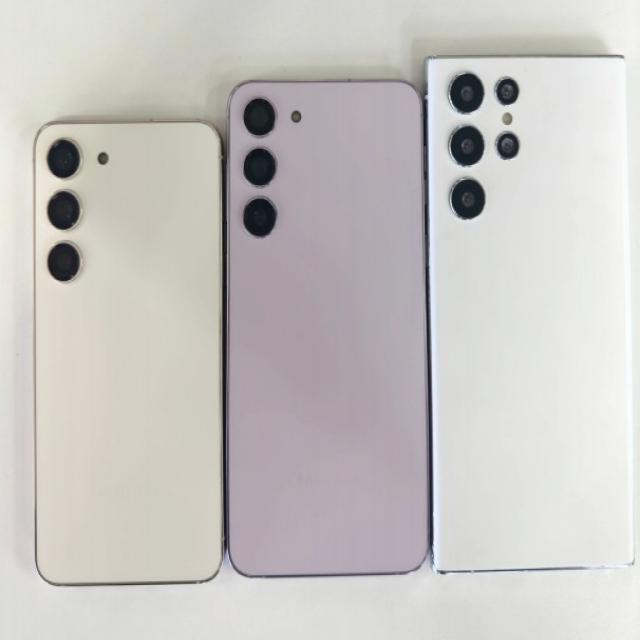phone: (426, 52, 639, 581), (227, 77, 427, 580), (32, 118, 225, 587)
